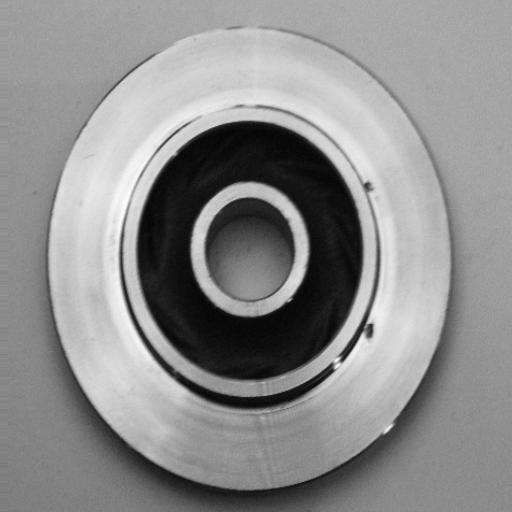crack: (357, 169, 383, 204), (359, 309, 379, 348)
scratch: (185, 98, 263, 124)
unpolished_casting: (44, 21, 454, 495)
